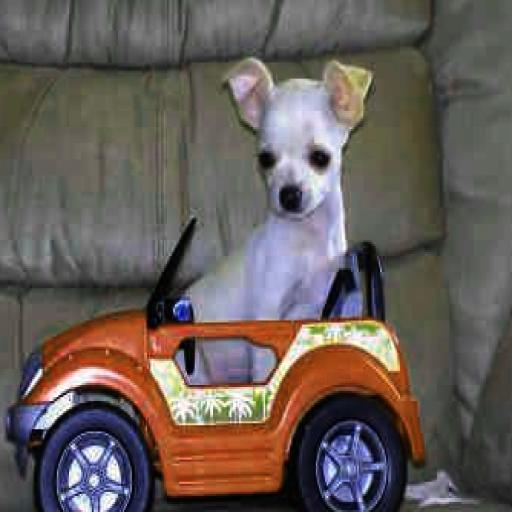dog_face: (224, 51, 362, 215)
